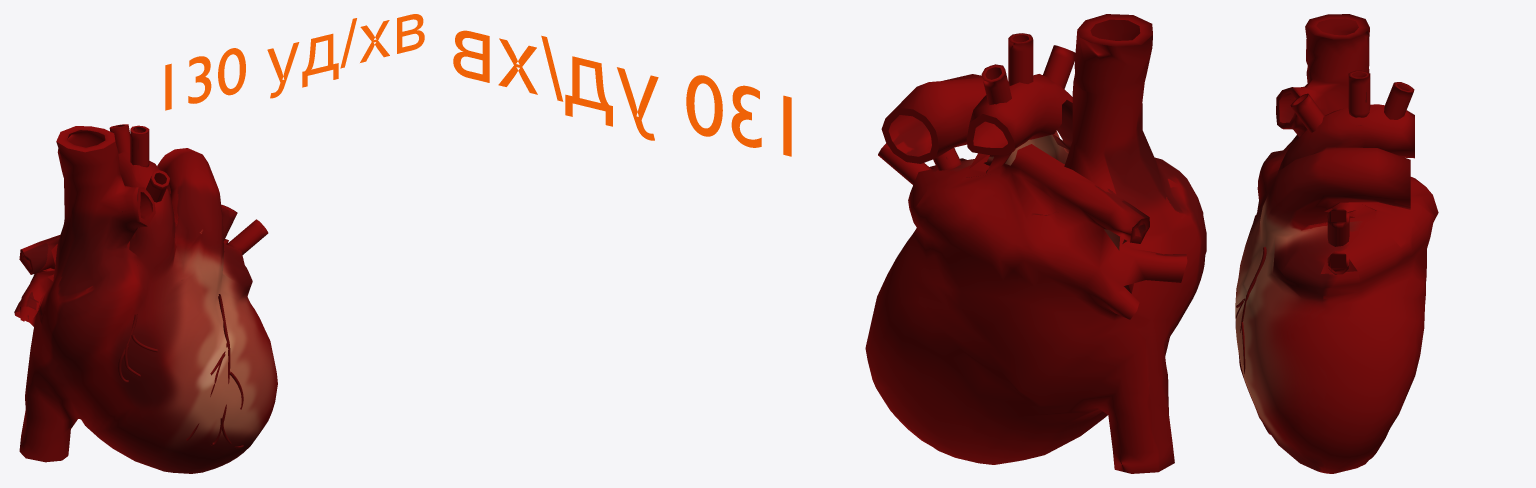
File: YEARTT4.glb
3 views of the same model, side by side, from view 1: azimuth 30°, elevation 25°; view 2: azimuth 150°, elevation 25°; view 3: azimuth 270°, elevation 25° (orthographic). The views are drawn at different scales.
Visible parts, largest first — view 1: Plane.002, Text; view 2: Plane.002, Text; view 3: Plane.002.
Part boxes in pixels (x1,y1,x2,y2): Plane.002: [14, 124, 277, 473]; Text: [165, 14, 424, 110]; Plane.002: [865, 14, 1206, 473]; Text: [453, 30, 791, 156]; Plane.002: [1235, 14, 1438, 473].
Bounding box in the file's own units: 6.84 × 4.77 × 3.24.
Materials: 3 (1 with a texture image).
